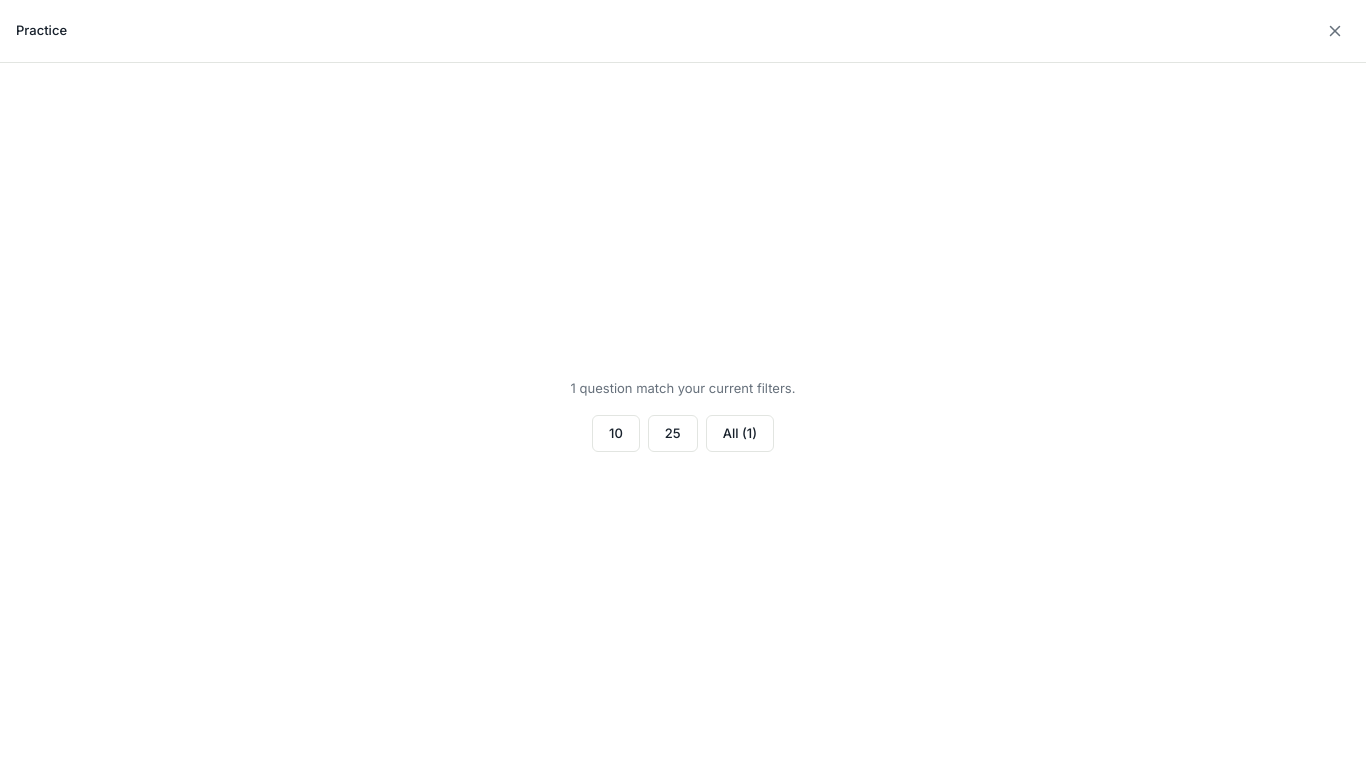
Scenario: PracticeMode › flips via the Space key (keyboard-only session)
The width and height of the screenshot is (1366, 768).
Click the button "All (1)" at (740, 433), box top-left (706, 414), bottom-right (774, 452)
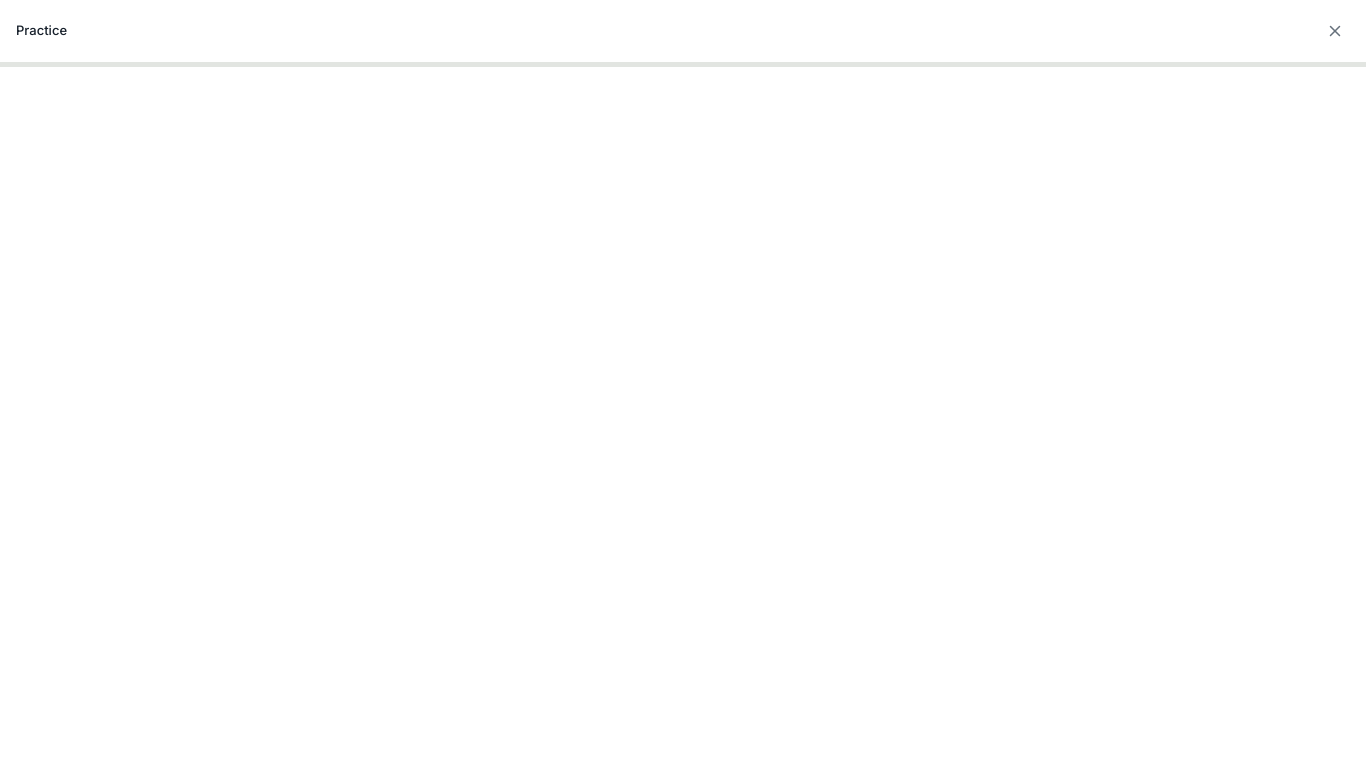
Press Space
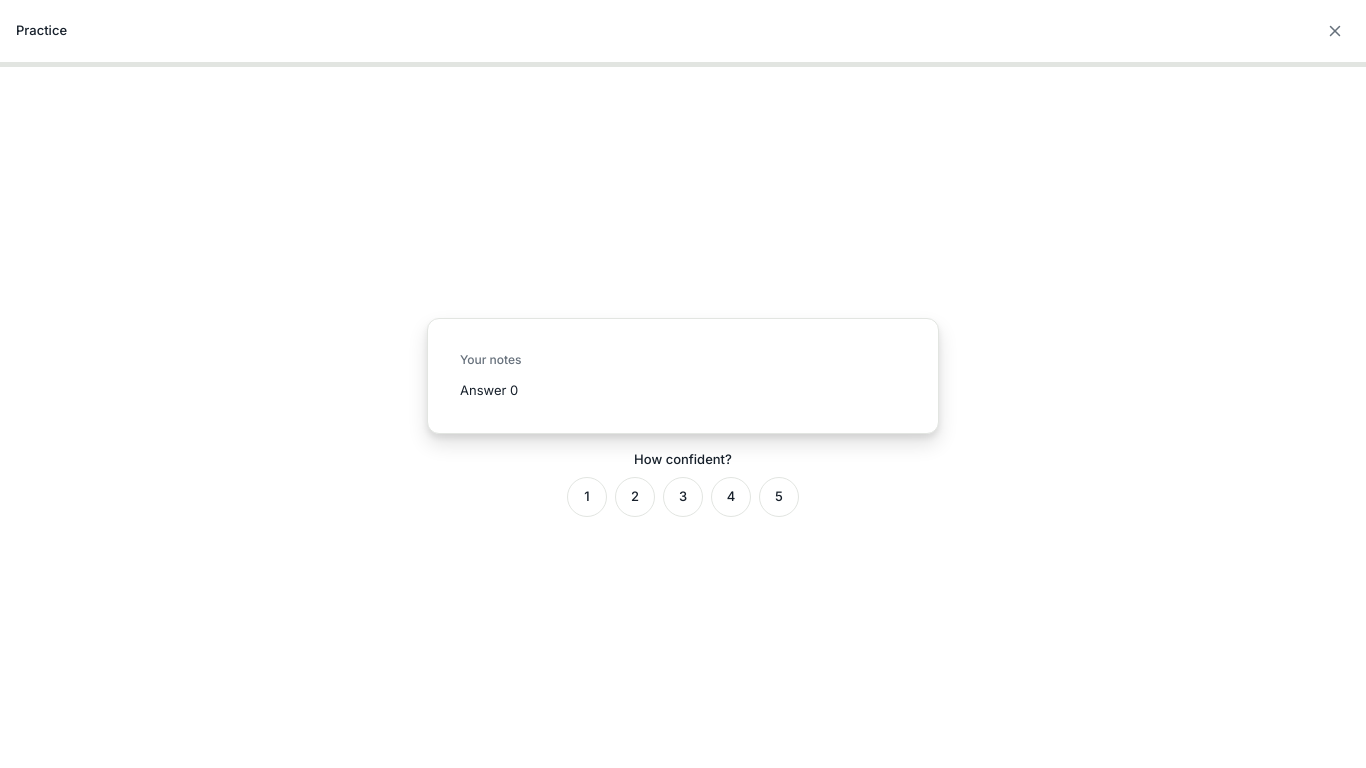
Now the text "Answer 0" is shown, box top-left (460, 381), bottom-right (518, 400)
